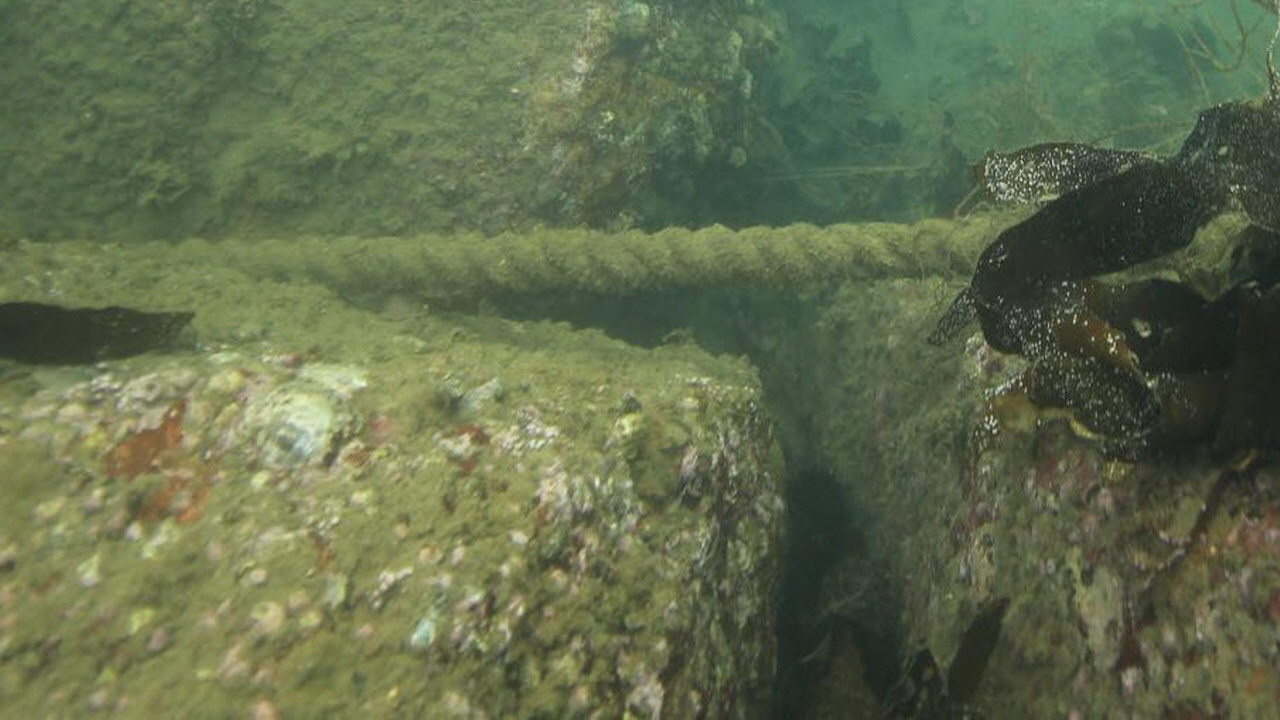rope: (24, 204, 1038, 302)
